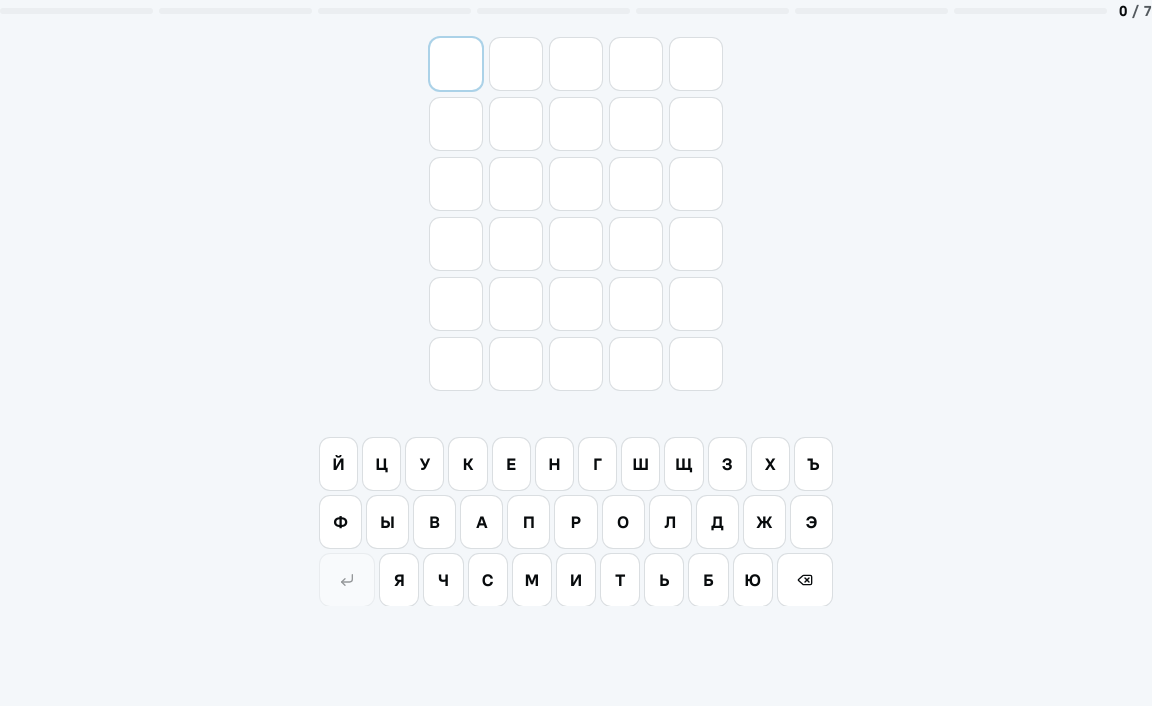
Test: BukovkiGame round lifecycle › falls back to a browse link when the round ends with no listings
What coordinates should you click on to do the following:
click the button "д"
I would click on:
 (717, 522)
Its box is [697,496,738,548].
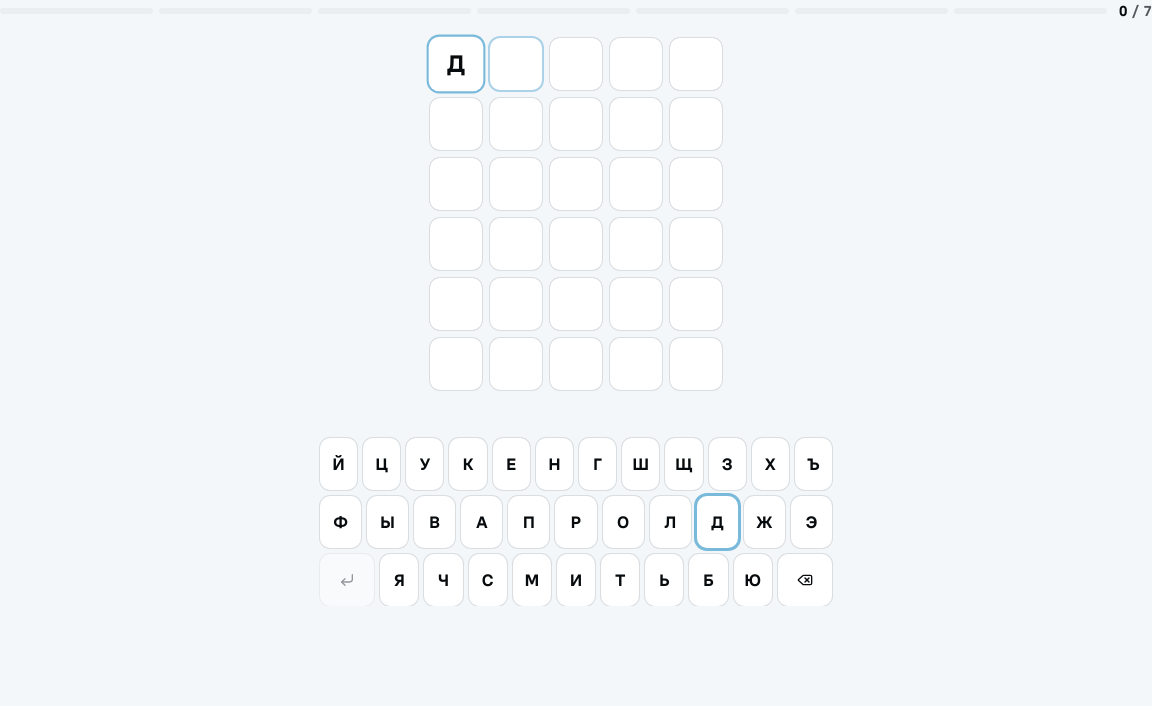
What coordinates should you click on to do the following:
click the button "и"
I would click on:
 (576, 580)
Its box is [557,554,595,606].
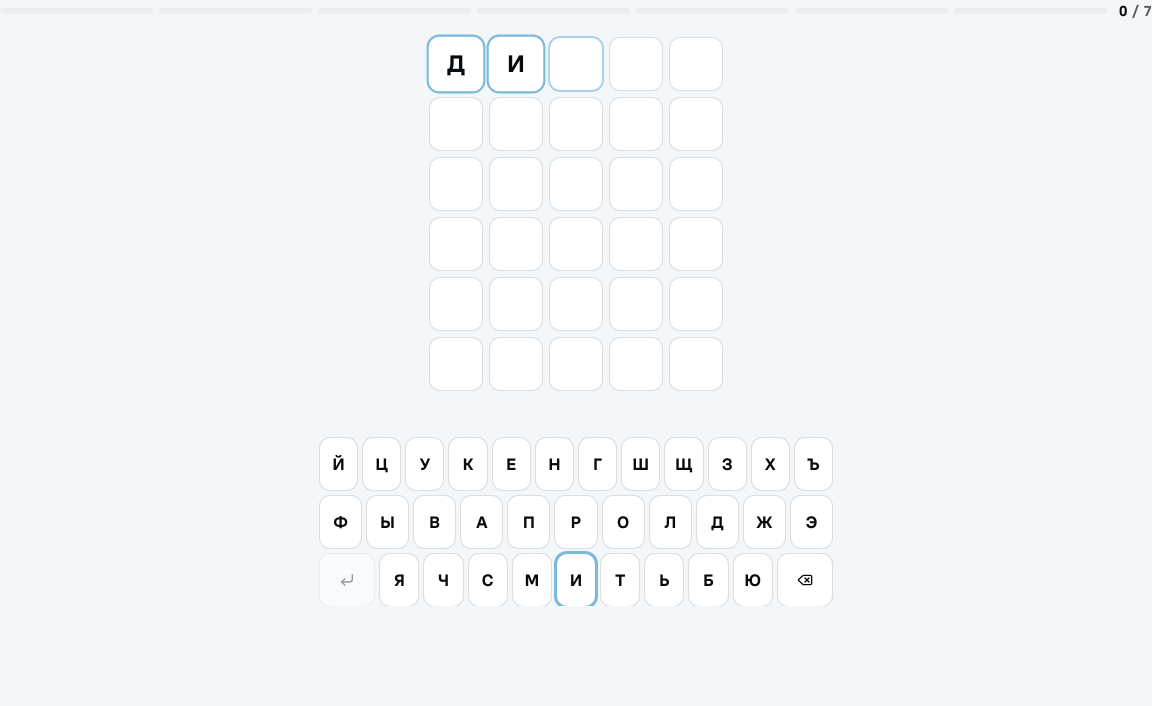
What coordinates should you click on to do the following:
click the button "в"
I would click on:
 (435, 522)
Its box is [414,496,455,548].
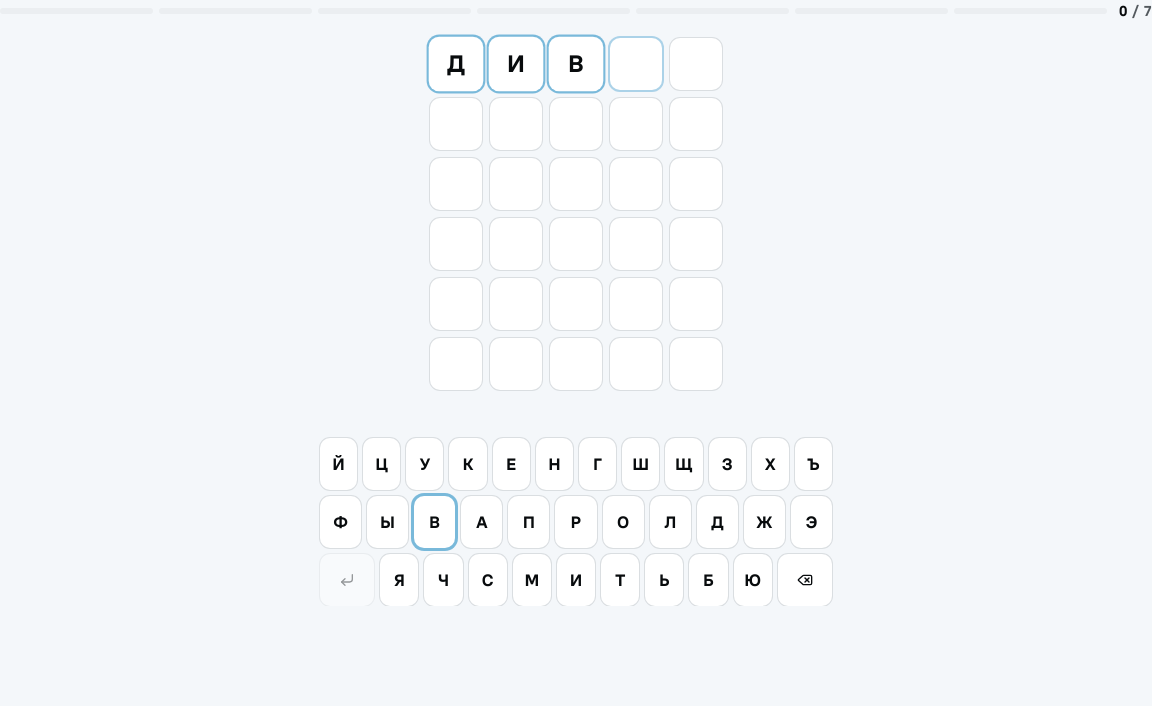
What coordinates should you click on to do the following:
click the button "а"
I would click on:
 (482, 522)
Its box is [461,496,502,548].
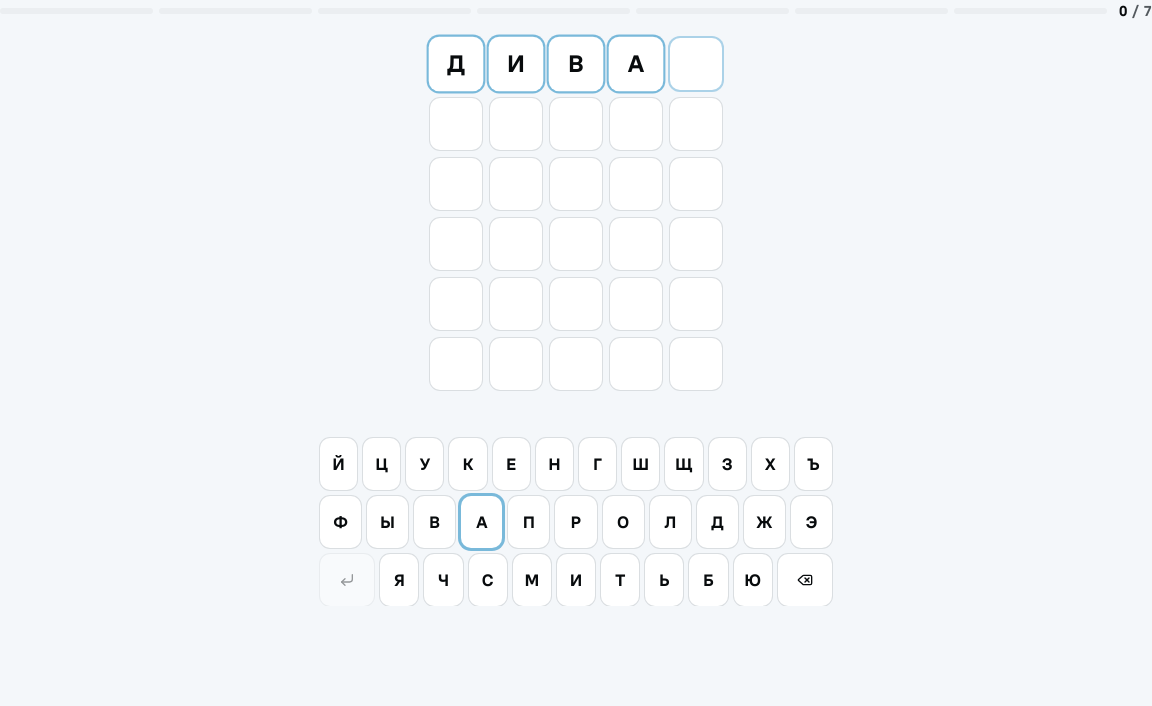
What coordinates should you click on to do the following:
click the button "н"
I would click on:
 (554, 464)
Its box is [536,438,573,490].
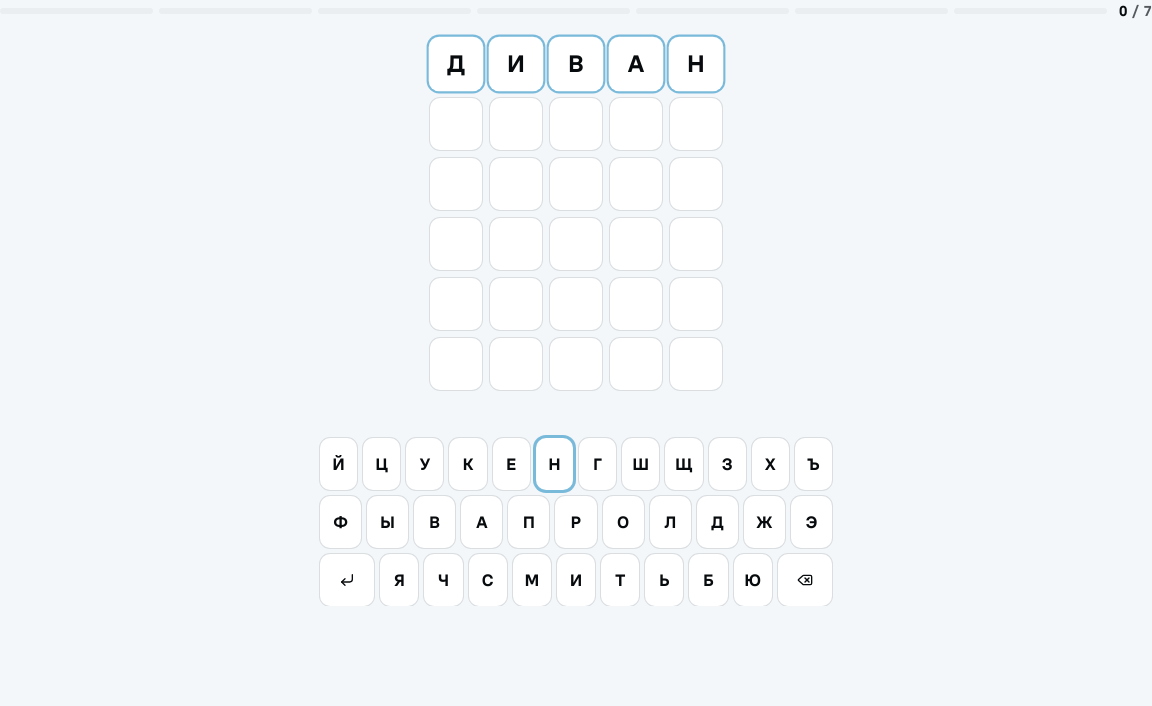
What coordinates should you click on to do the following:
click the button named "Проверить"
I would click on:
 (347, 580)
Its box is [320,554,374,606].
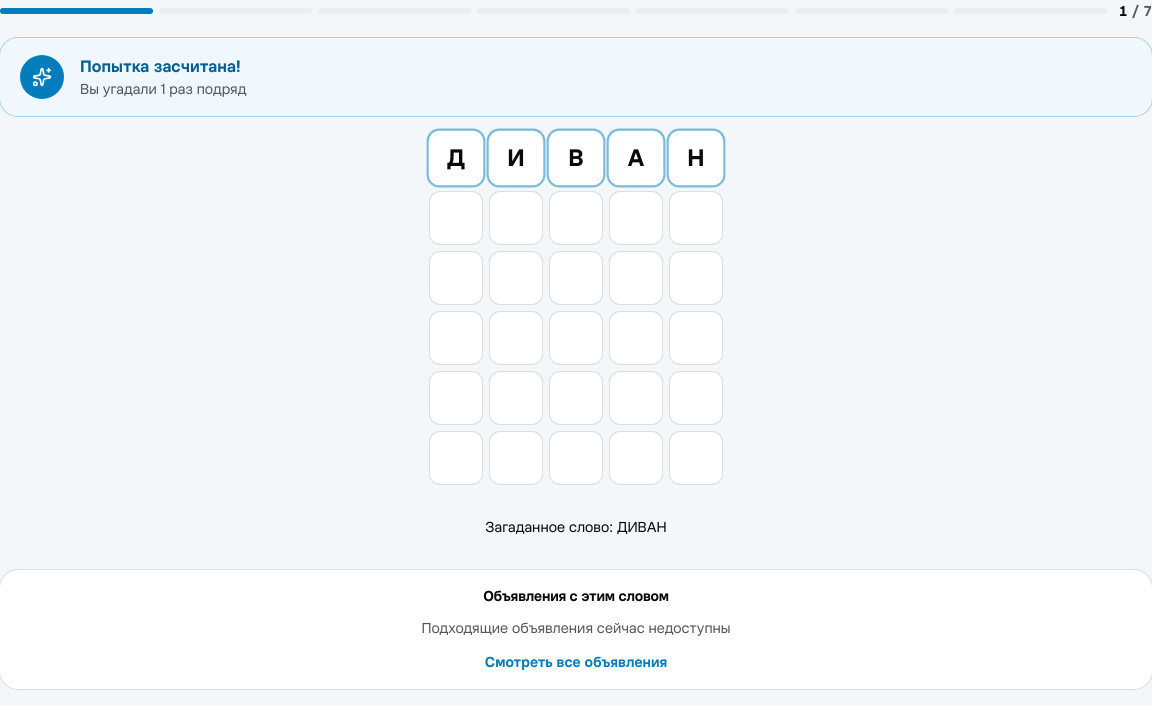
Result: the text "Подходящие объявления сейчас недоступны" is shown at [421,618,731,637]
